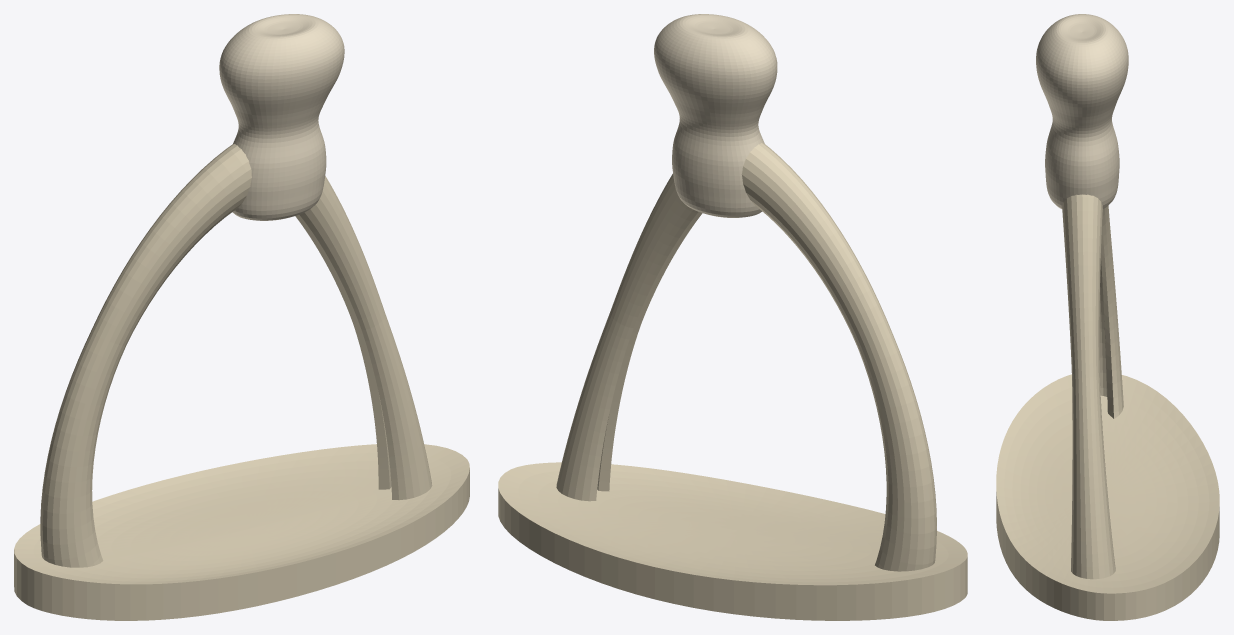
The picture shows the model from 3 angles, left to right: view 1: azimuth 30°, elevation 25°; view 2: azimuth 150°, elevation 25°; view 3: azimuth 270°, elevation 25°; orthographic projection. The views are drawn at different scales.
Parts seen in each view (by area): view 1: WholeAsymmetricCurvedFootplate, WholeGroovedCrus_Posterior, WholeOffsetHeadAndNeck, WholeGroovedCrus_Anterior; view 2: WholeAsymmetricCurvedFootplate, WholeGroovedCrus_Posterior, WholeOffsetHeadAndNeck, WholeGroovedCrus_Anterior; view 3: WholeAsymmetricCurvedFootplate, WholeOffsetHeadAndNeck, WholeGroovedCrus_Anterior, WholeGroovedCrus_Posterior.
Boxes of the visible parts, x1,y1,x2,y2 form: WholeAsymmetricCurvedFootplate: (14,444,469,620); WholeGroovedCrus_Posterior: (40,143,251,567); WholeOffsetHeadAndNeck: (219,14,344,220); WholeGroovedCrus_Anterior: (295,176,432,499); WholeAsymmetricCurvedFootplate: (498,462,967,620); WholeGroovedCrus_Posterior: (741,143,936,571); WholeOffsetHeadAndNeck: (654,14,777,217); WholeGroovedCrus_Anterior: (556,174,702,501); WholeAsymmetricCurvedFootplate: (996,374,1219,620); WholeOffsetHeadAndNeck: (1036,14,1128,208); WholeGroovedCrus_Anterior: (1062,194,1115,579); WholeGroovedCrus_Posterior: (1099,205,1123,418).
Size of the model in its own units: 0.0882 by 0.0991 by 0.0392.
